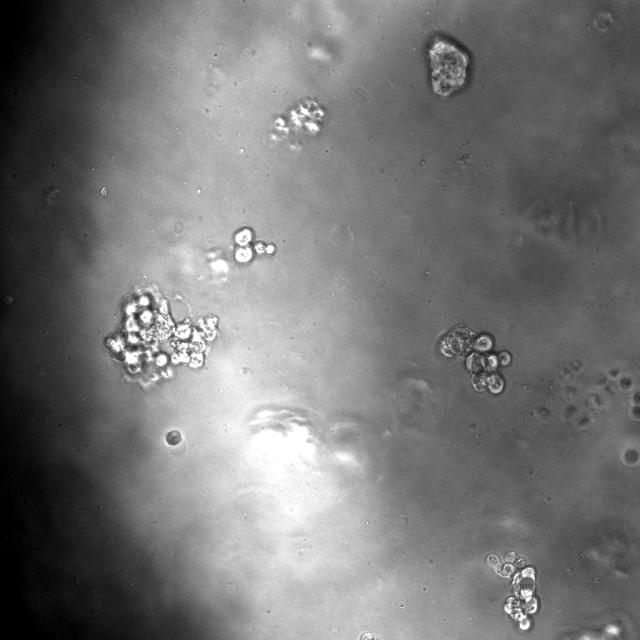organoid: (104, 286, 219, 388), (438, 324, 511, 395), (486, 550, 539, 631), (426, 36, 469, 96), (271, 98, 326, 139), (233, 225, 276, 264), (621, 446, 639, 466), (628, 391, 639, 421), (165, 429, 182, 446), (563, 404, 578, 419), (577, 415, 591, 431), (358, 631, 383, 639), (619, 378, 632, 390), (607, 368, 619, 379)
